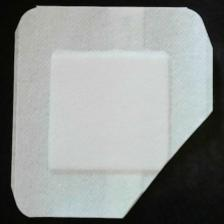Cut: (9, 4, 219, 221)
